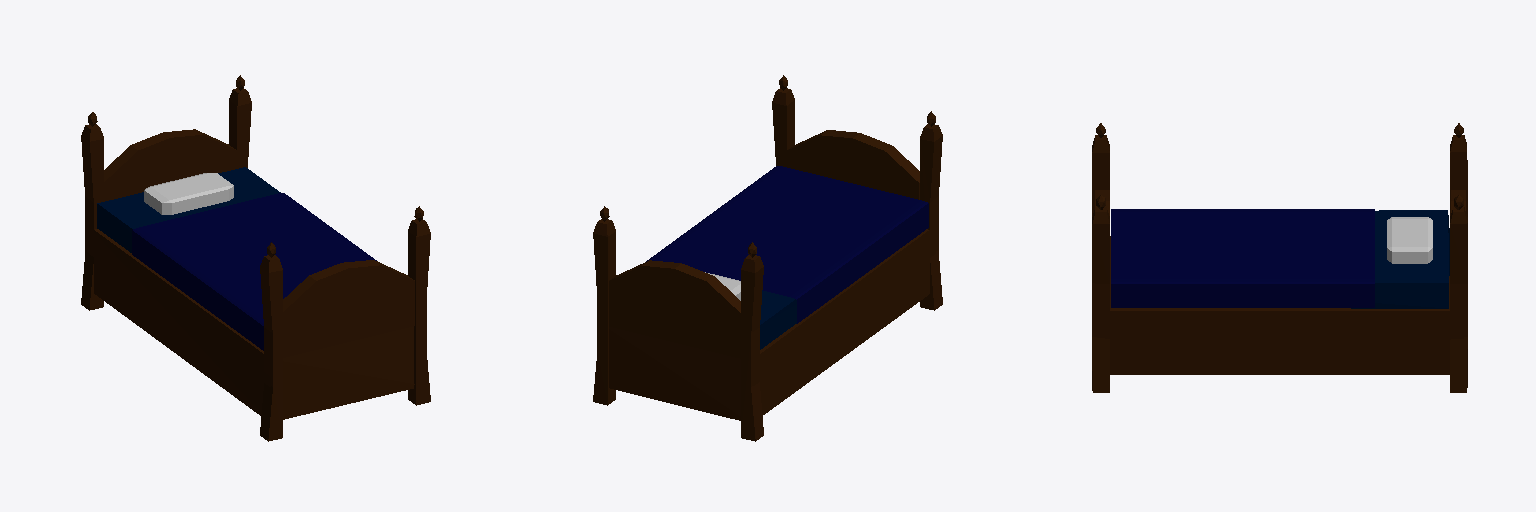
File: bed_corr.obj
3 views of the same model, side by side, from view 1: azimuth 30°, elevation 25°; view 2: azimuth 150°, elevation 25°; view 3: azimuth 270°, elevation 25° (orthographic).
Parts seen in each view (by area): view 1: BottomPart, Bedsheet, MiddlePart, Legs, Mattress, Pillow; view 2: Bedsheet, BottomPart, MiddlePart, Legs, Mattress; view 3: Bedsheet, BottomPart, Legs, Mattress, Pillow.
Boxes of the visible parts, x1=… form: BottomPart: x1=87, y1=229, x2=414, y2=419; Bedsheet: x1=132, y1=193, x2=376, y2=350; MiddlePart: x1=104, y1=129, x2=414, y2=357; Legs: x1=81, y1=75, x2=430, y2=441; Mattress: x1=97, y1=167, x2=280, y2=252; Pillow: x1=144, y1=173, x2=233, y2=214; Bedsheet: x1=646, y1=166, x2=928, y2=323; BottomPart: x1=609, y1=229, x2=935, y2=420; MiddlePart: x1=609, y1=130, x2=919, y2=358; Legs: x1=593, y1=75, x2=942, y2=441; Mattress: x1=760, y1=290, x2=796, y2=349; Bedsheet: x1=1111, y1=209, x2=1374, y2=307; BottomPart: x1=1097, y1=236, x2=1464, y2=374; Legs: x1=1092, y1=123, x2=1467, y2=392; Mattress: x1=1351, y1=210, x2=1449, y2=308; Pillow: x1=1387, y1=217, x2=1432, y2=263.
Size of the model in its own units: 1.75 by 2 by 3.5.